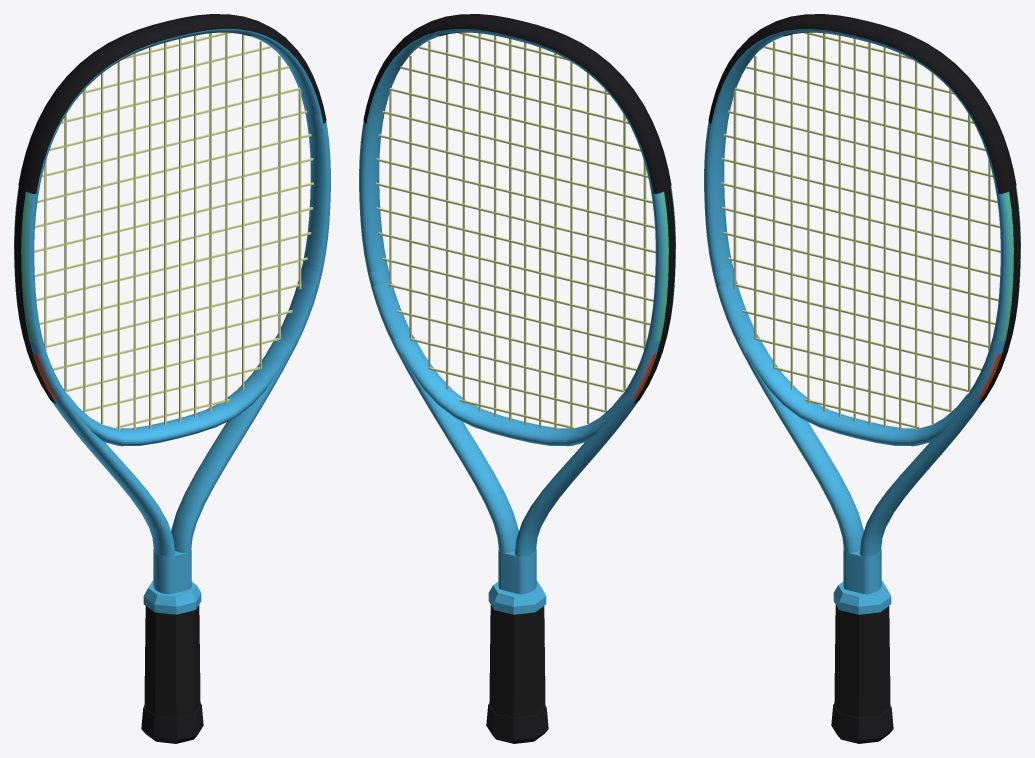
Rendered from yonex-junior-21.glb.
3 views of the same model, side by side, from view 1: azimuth 30°, elevation 25°; view 2: azimuth 150°, elevation 25°; view 3: azimuth 330°, elevation 25° (orthographic).
Visible parts, largest first — view 1: frame, strings_mains, strings_crosses, bumper, grip, butt_cap, grommets, collar; view 2: frame, strings_mains, strings_crosses, bumper, grip, butt_cap, grommets, collar; view 3: frame, strings_mains, strings_crosses, bumper, grip, butt_cap, grommets, collar.
Boxes of the visible parts, x1,y1,x2,y2 form: frame: (14,29,330,594); strings_mains: (44,32,301,430); strings_crosses: (34,32,313,428); bumper: (18,14,326,193); grip: (144,605,200,717); butt_cap: (141,704,203,743); grommets: (14,187,55,403); collar: (143,580,201,614); frame: (359,29,675,594); strings_mains: (389,32,646,429); strings_crosses: (375,32,655,429); bumper: (363,14,671,193); grip: (489,605,545,717); butt_cap: (486,704,548,743); grommets: (634,187,675,403); collar: (488,580,546,614); frame: (704,29,1020,594); strings_mains: (733,32,990,430); strings_crosses: (721,32,1000,428); bumper: (708,14,1016,193); grip: (834,605,890,717); butt_cap: (831,704,893,743); grommets: (979,187,1020,403); collar: (833,580,891,614).
Size of the model in its own units: 0.2448 by 0.5337 by 0.0396.
